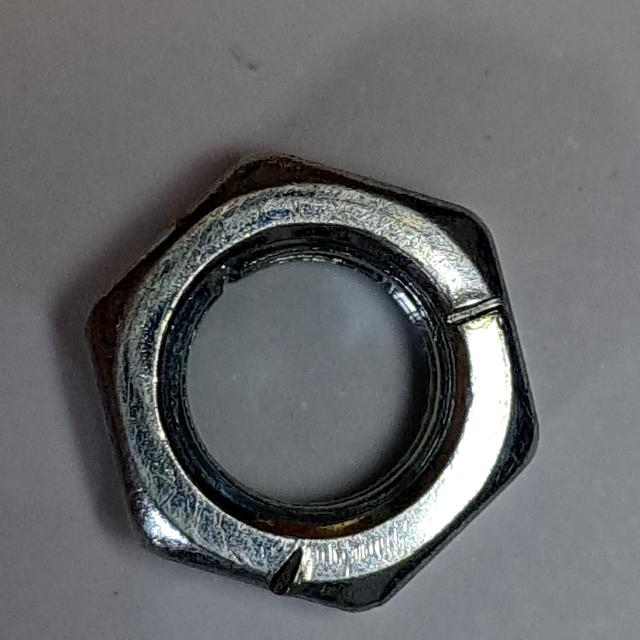Scratches: (64, 141, 558, 625)
